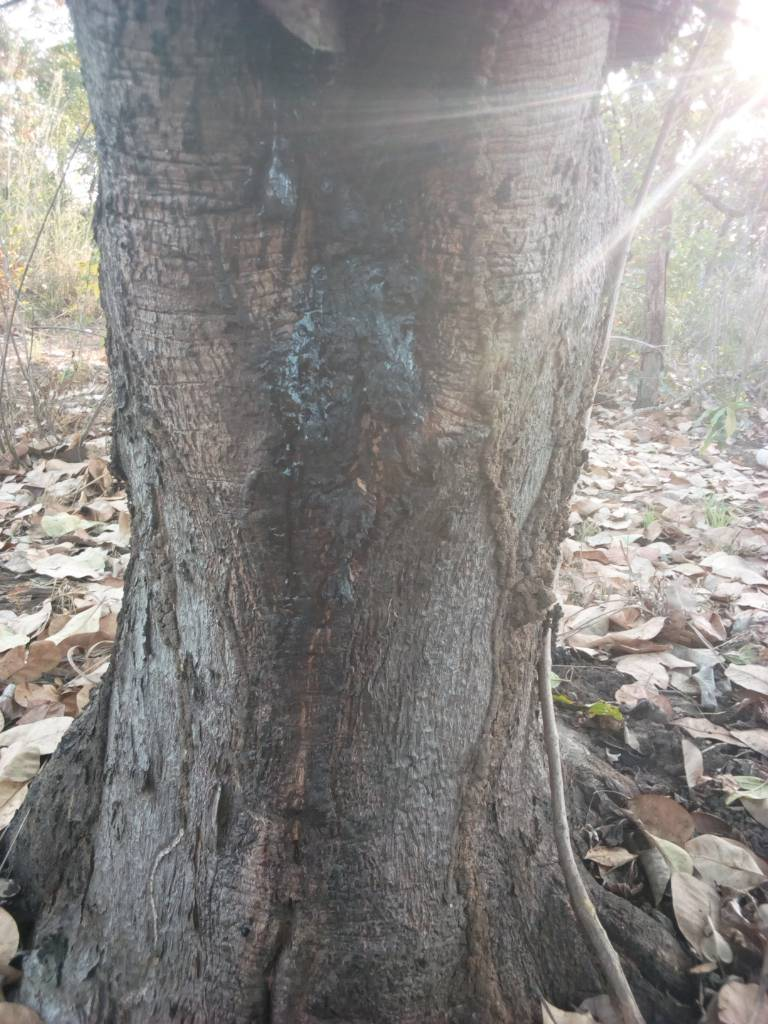Gommose: (265, 132, 415, 678)
